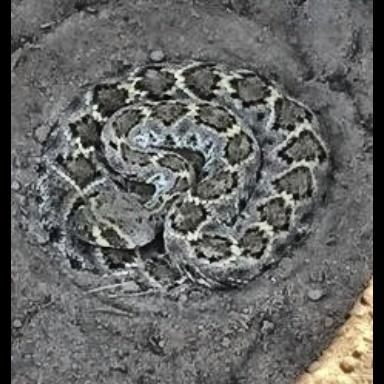snake: (40, 52, 329, 293)
